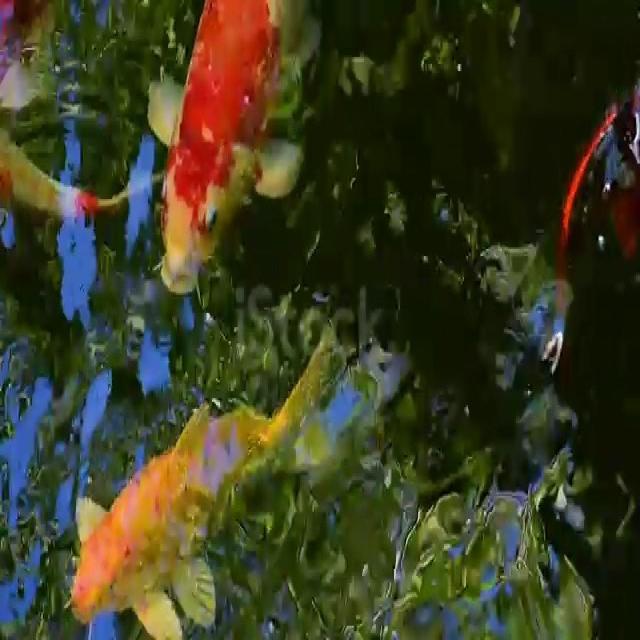fish: (69, 338, 352, 640), (141, 0, 308, 299)
